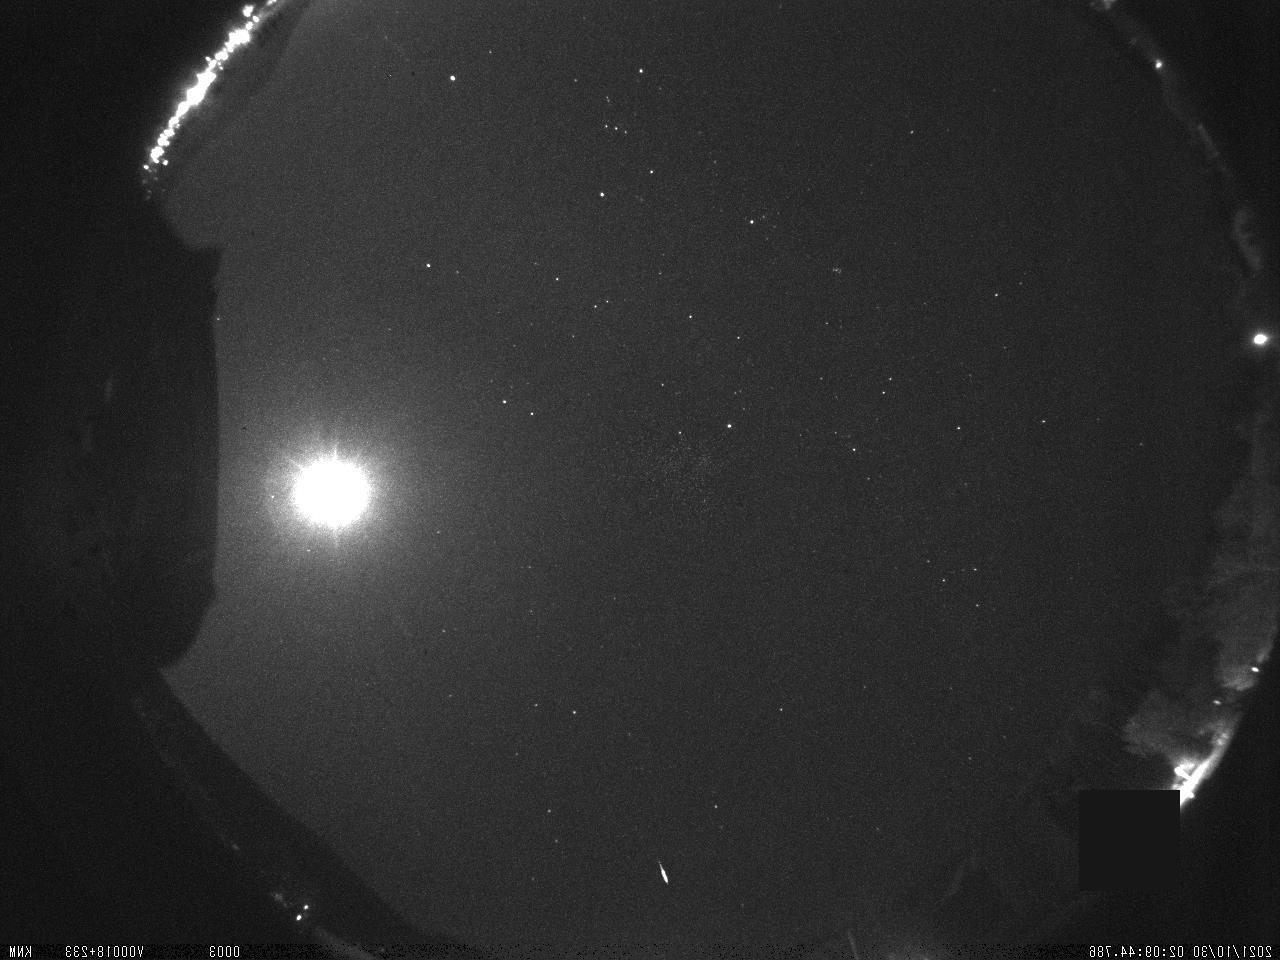meteor: (646, 850, 685, 896)
